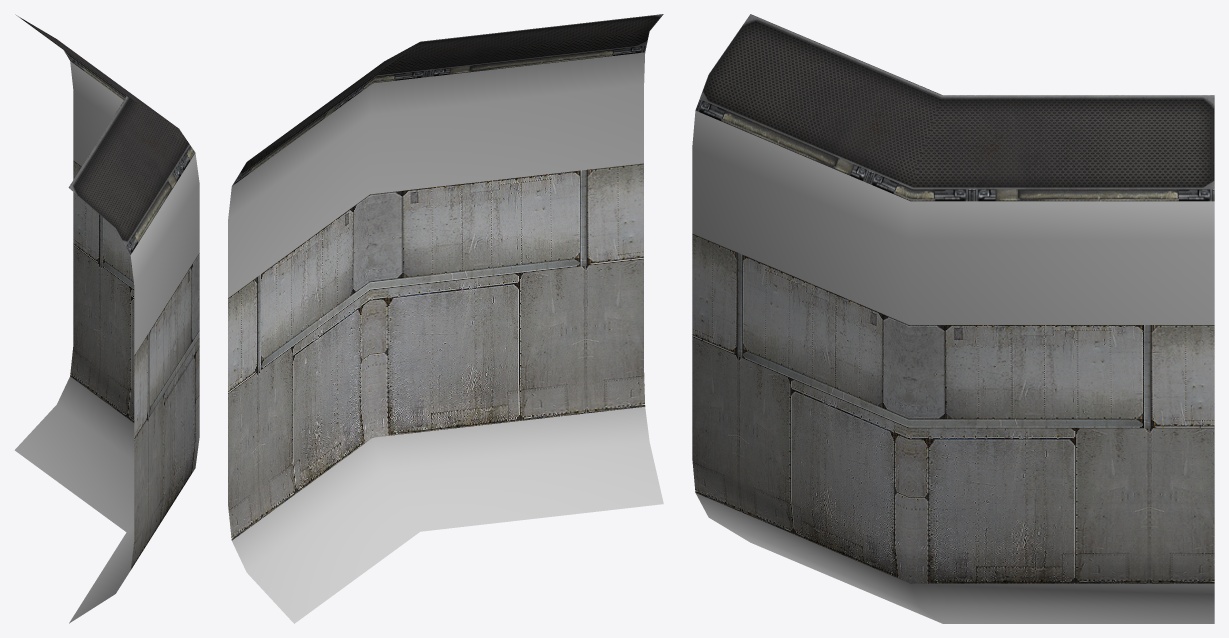
Rendered from Wall_L_Mid4mts_16.fbx.
3 views of the same model, side by side, from view 1: azimuth 30°, elevation 25°; view 2: azimuth 150°, elevation 25°; view 3: azimuth 270°, elevation 25° (orthographic). The views are drawn at different scales.
Parts seen in each view (by area): view 1: Wall_L_Mid4mts_16; view 2: Wall_L_Mid4mts_16; view 3: Wall_L_Mid4mts_16.
Part boxes in pixels (bbox=[...]): Wall_L_Mid4mts_16: bbox=[14, 14, 199, 623]; Wall_L_Mid4mts_16: bbox=[228, 14, 663, 623]; Wall_L_Mid4mts_16: bbox=[692, 14, 1214, 623].
Bounding box in the file's own units: 188 × 400 × 358.
